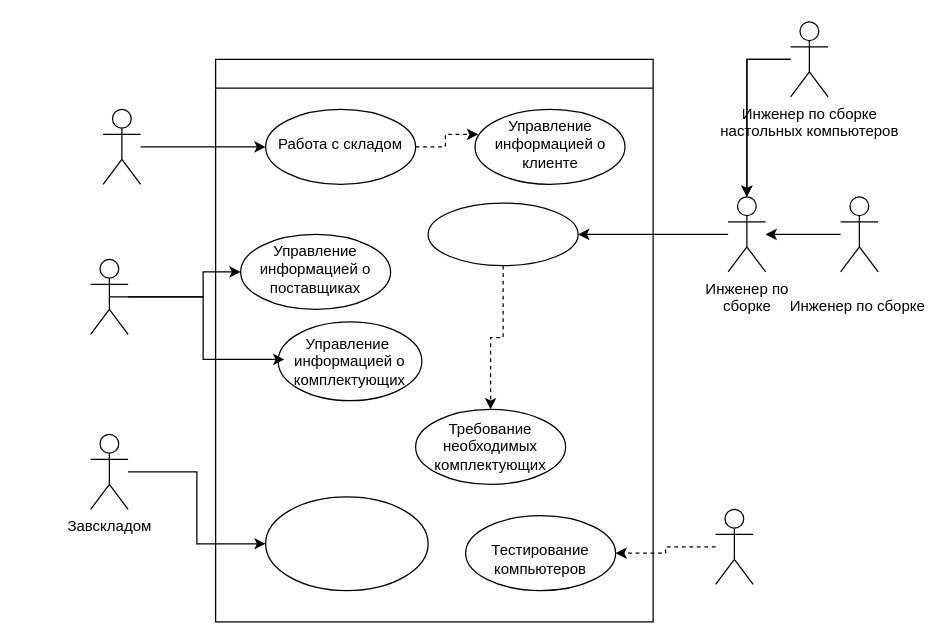
Image size: 950x644. Some labels were removed from this diagram. The centre of each missing label's shape, as x and y in pixels:
Инженер по тестированию: pixel 733 546
Менеджер по работе с клиентами: pixel 121 146
Менеджер по снабжению: pixel 108 296
Сборка компьютеров: pixel 502 234
Учёт поступления и выдачи комплектующих: pixel 346 543
